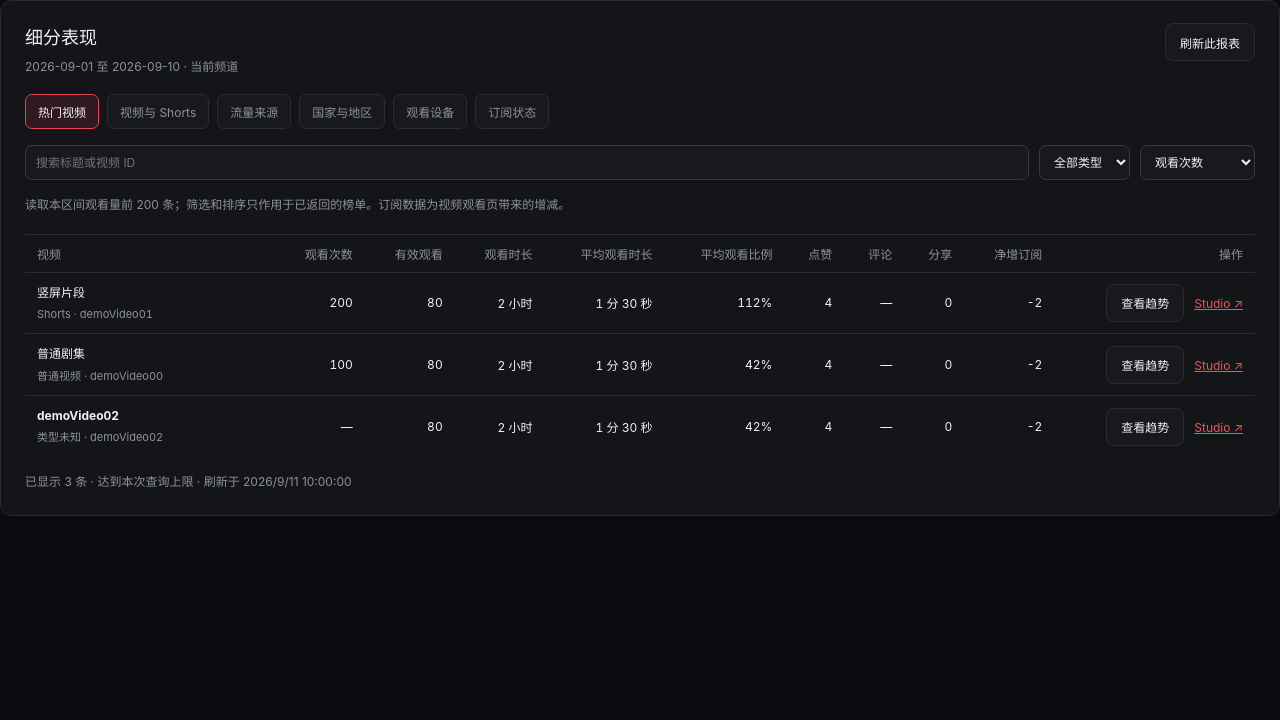
Test case: isolates report failures, keeps successful data on refresh failure and reuses tabs
Check: the text "普通剧集" is shown, box x1=37 y1=346 x2=85 y2=361
Click the button "流量来源" at [254, 112], box x1=217 y1=94 x2=291 y2=129
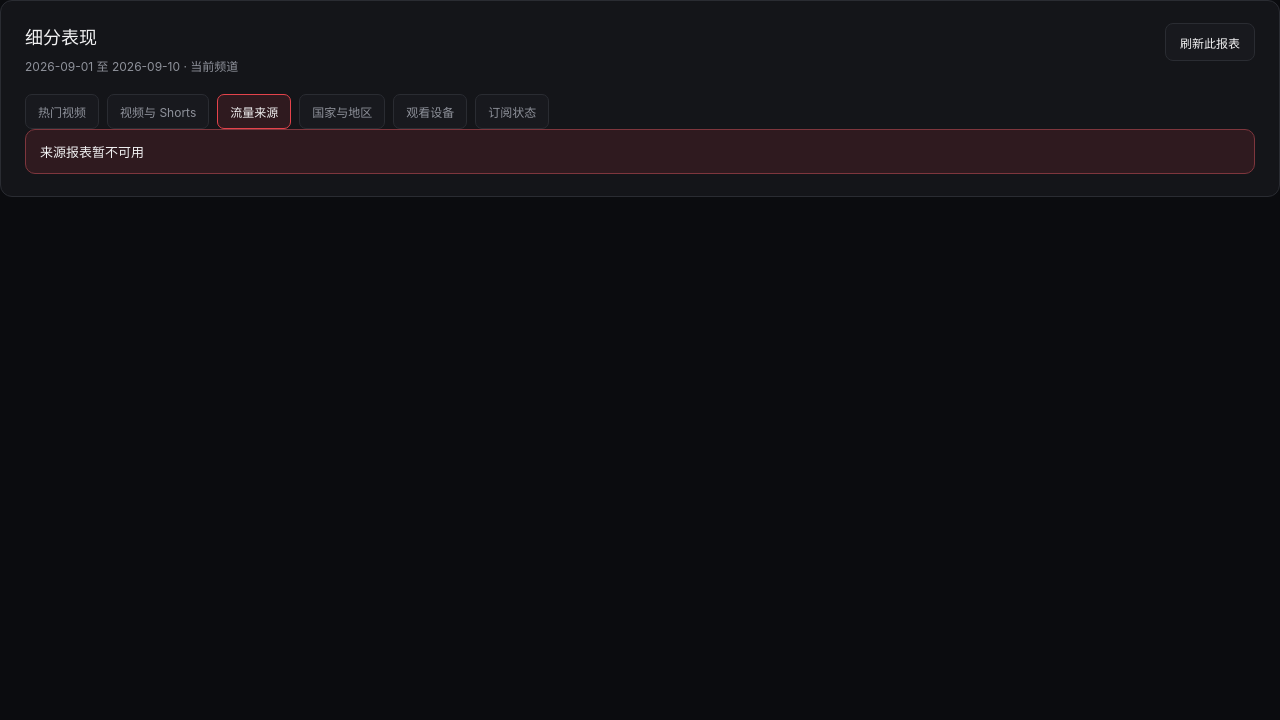
Check: the message reads "来源报表暂不可用", box x1=40 y1=144 x2=144 y2=160
Check: the text "普通剧集" is gone
Click the button "热门视频" at [62, 112], box x1=25 y1=94 x2=99 y2=129
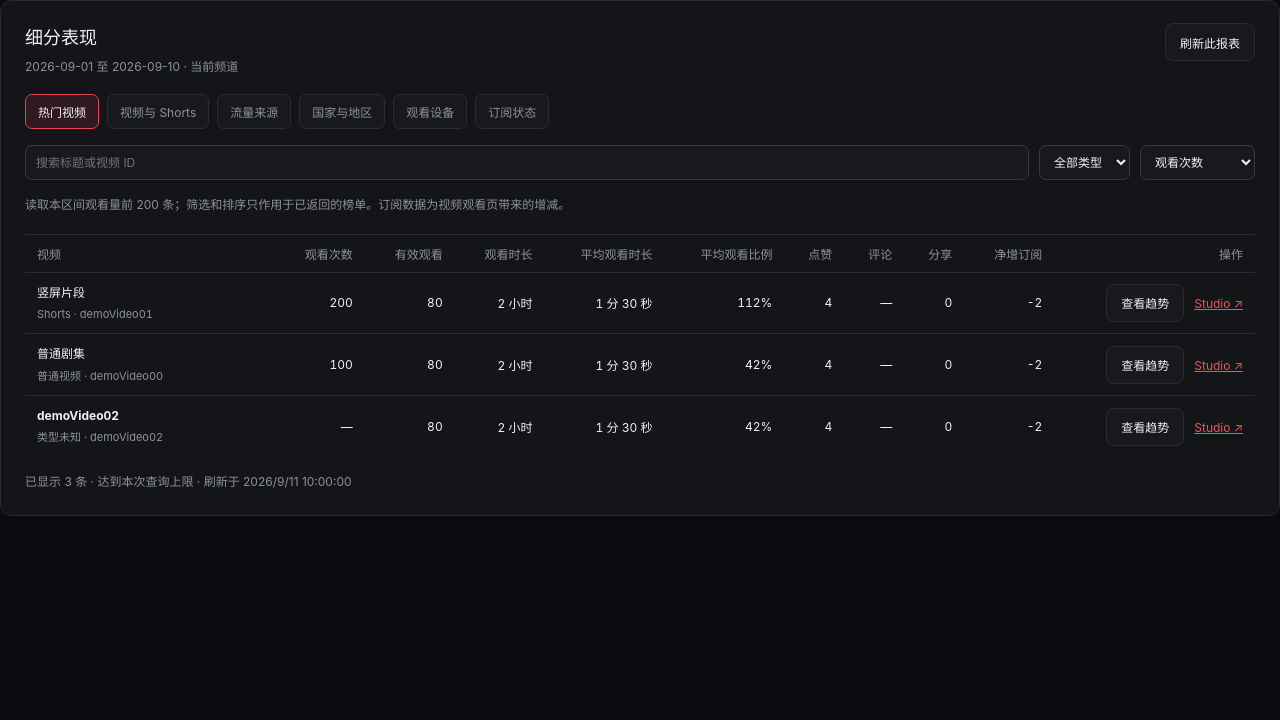
Check: the text "普通剧集" is shown, box x1=37 y1=346 x2=85 y2=361
Check: the message "来源报表暂不可用" is gone
Click the button "刷新此报表" at [1210, 42], box x1=1165 y1=23 x2=1255 y2=61
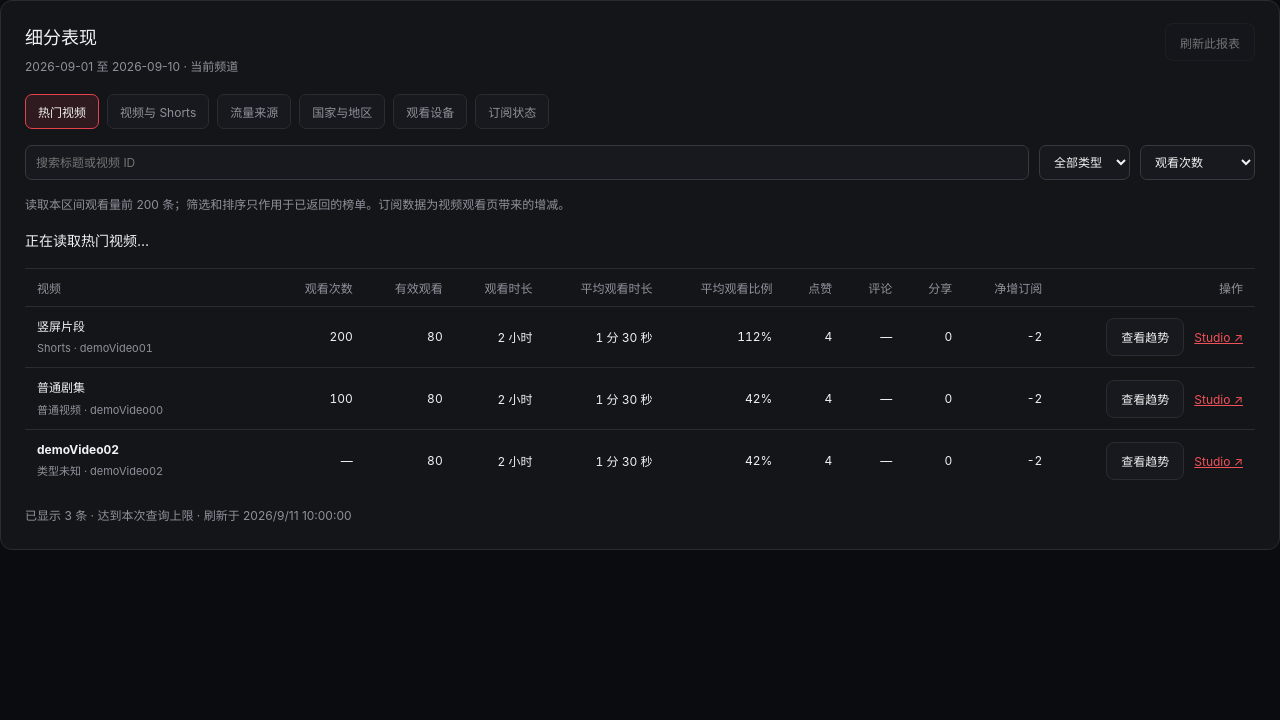
Click the button "刷新此报表" at [1210, 42], box x1=1165 y1=23 x2=1255 y2=61
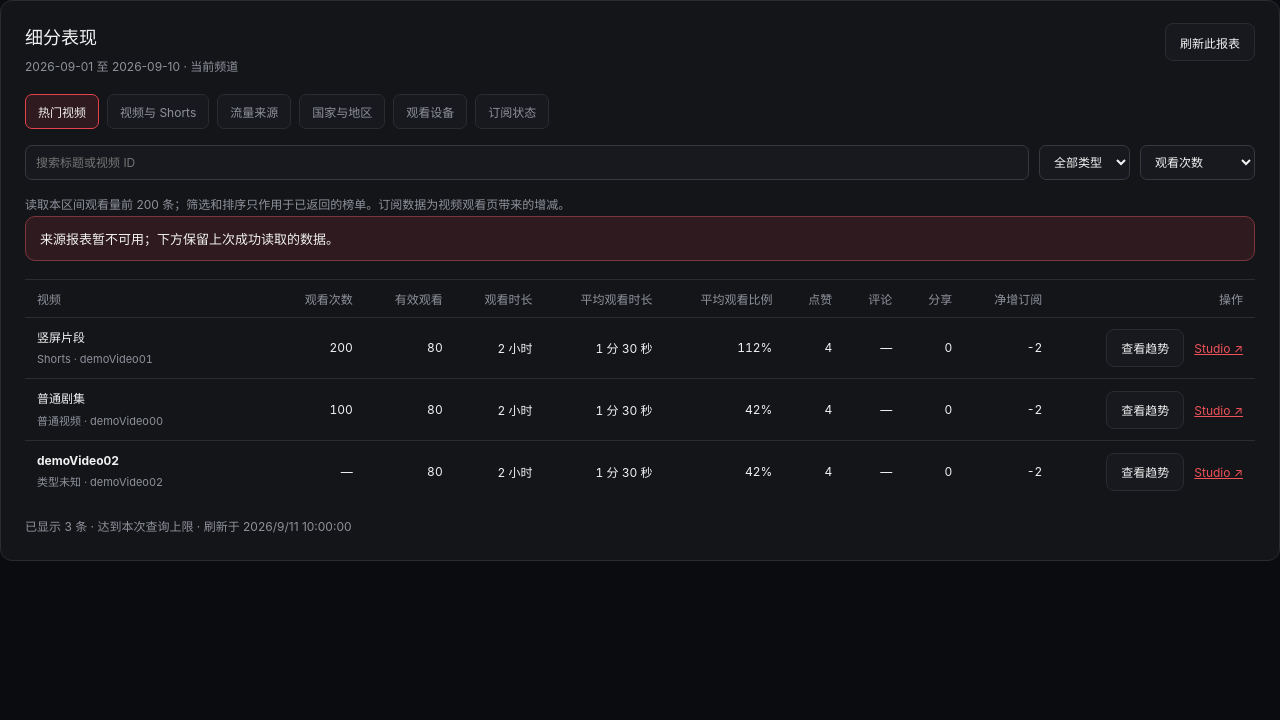
Check: the text "普通剧集" is shown, box x1=37 y1=391 x2=85 y2=406
Check: the message shows "保留上次成功", box x1=144 y1=231 x2=339 y2=247
